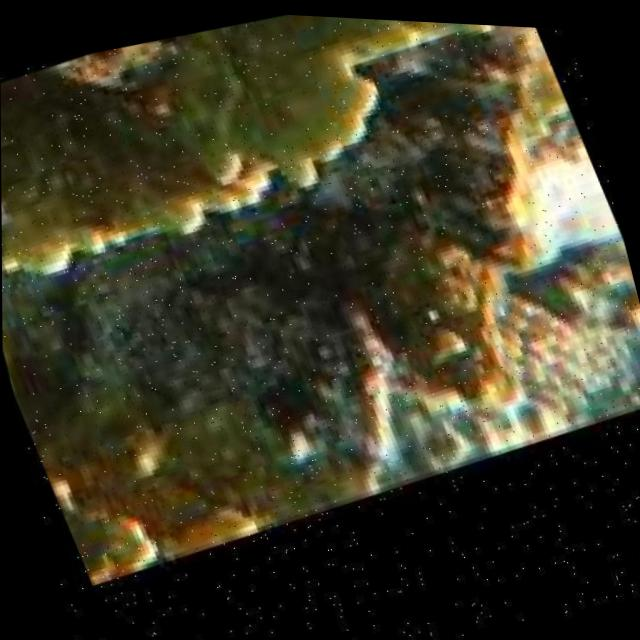Bleached Coral: (0, 0, 600, 289)
